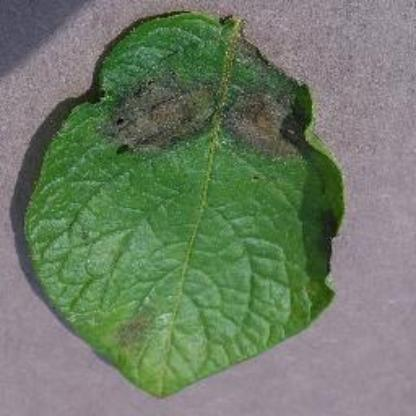Late-Blight: (20, 5, 350, 401)
